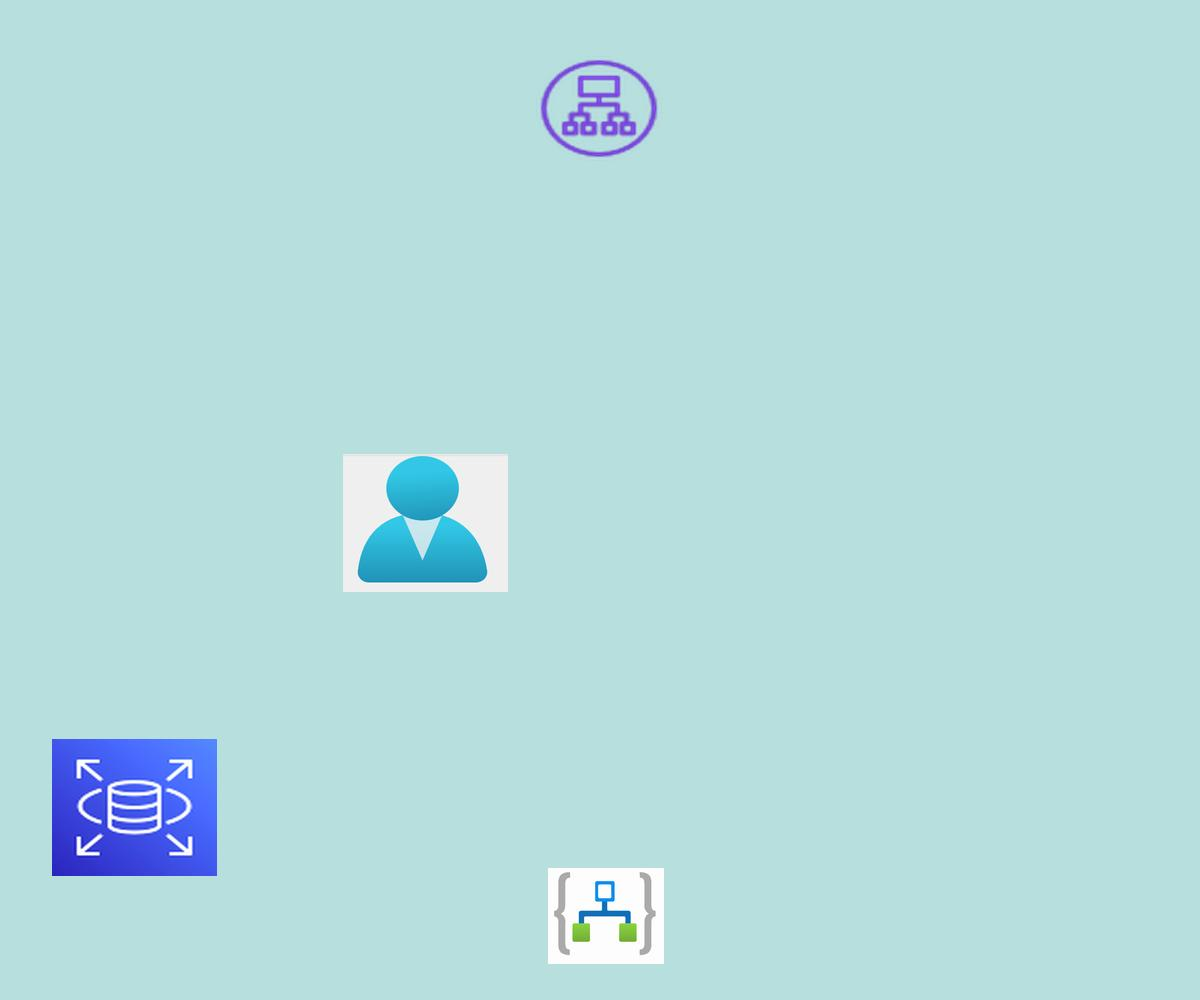AWS-RDS: (52, 739, 217, 876)
AWS-Res_Elastic-Load-Balancing_Application-Load-Balancer: (536, 56, 662, 161)
Azure_integration-204-Logic-Apps: (548, 868, 664, 964)
Azure_users: (343, 454, 508, 592)
